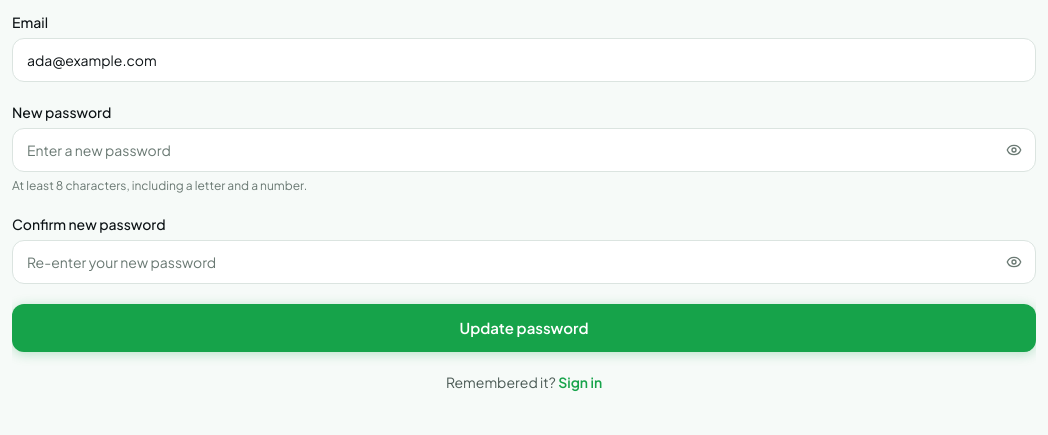
Scenario: ResetPasswordForm › shows a server error when the token is rejected
Type "secret123" into the password field labelled "New password".
click(524, 150); type("secret123")  # box [12,128,1036,172]
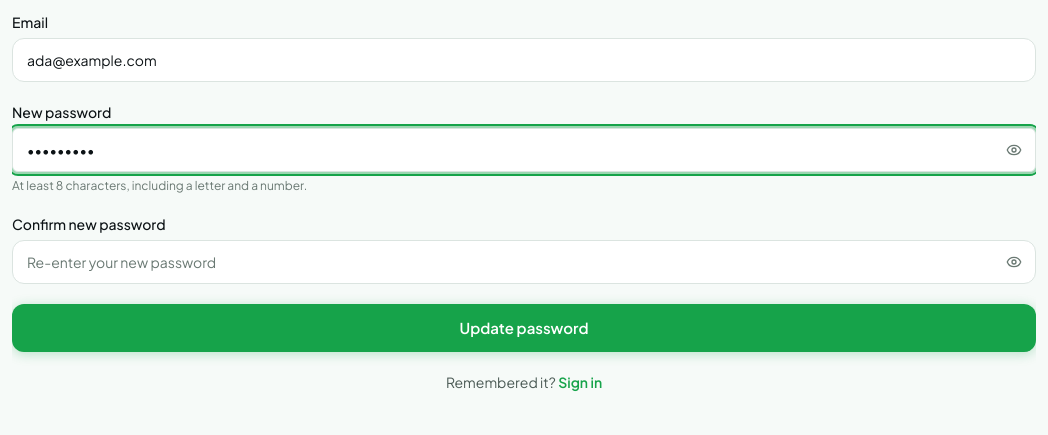
Type "secret123" into the password field labelled "Confirm new password".
click(524, 262); type("secret123")  # box [12,240,1036,284]
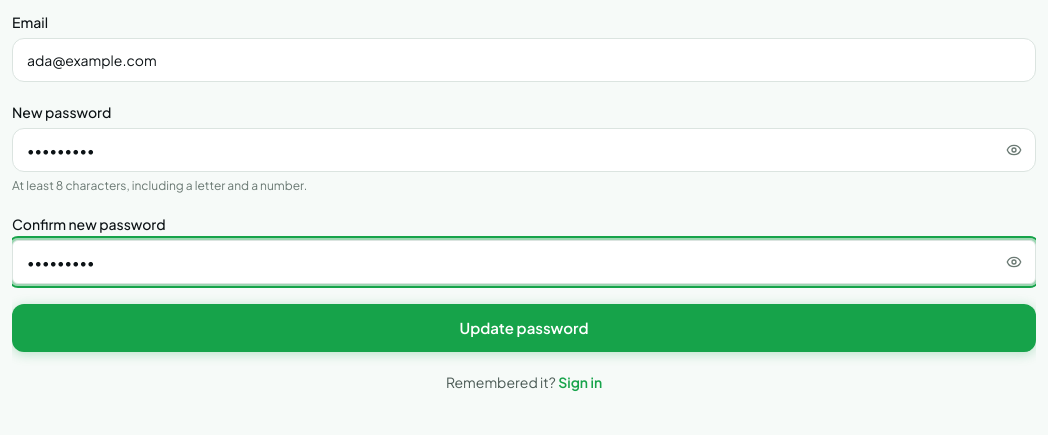
Click the button "Update password".
click(524, 328)  # box [12,304,1036,352]
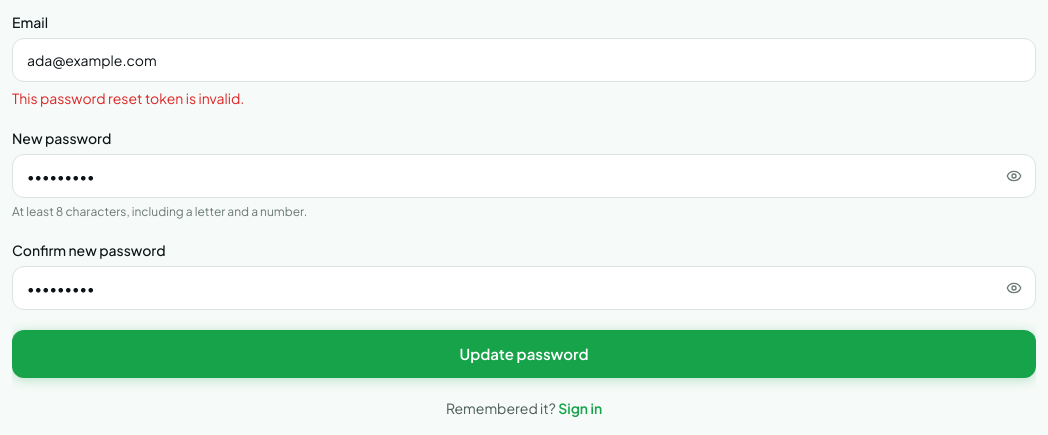
Expected: the text "This password reset token is invalid." is shown, [12,89,244,107]
